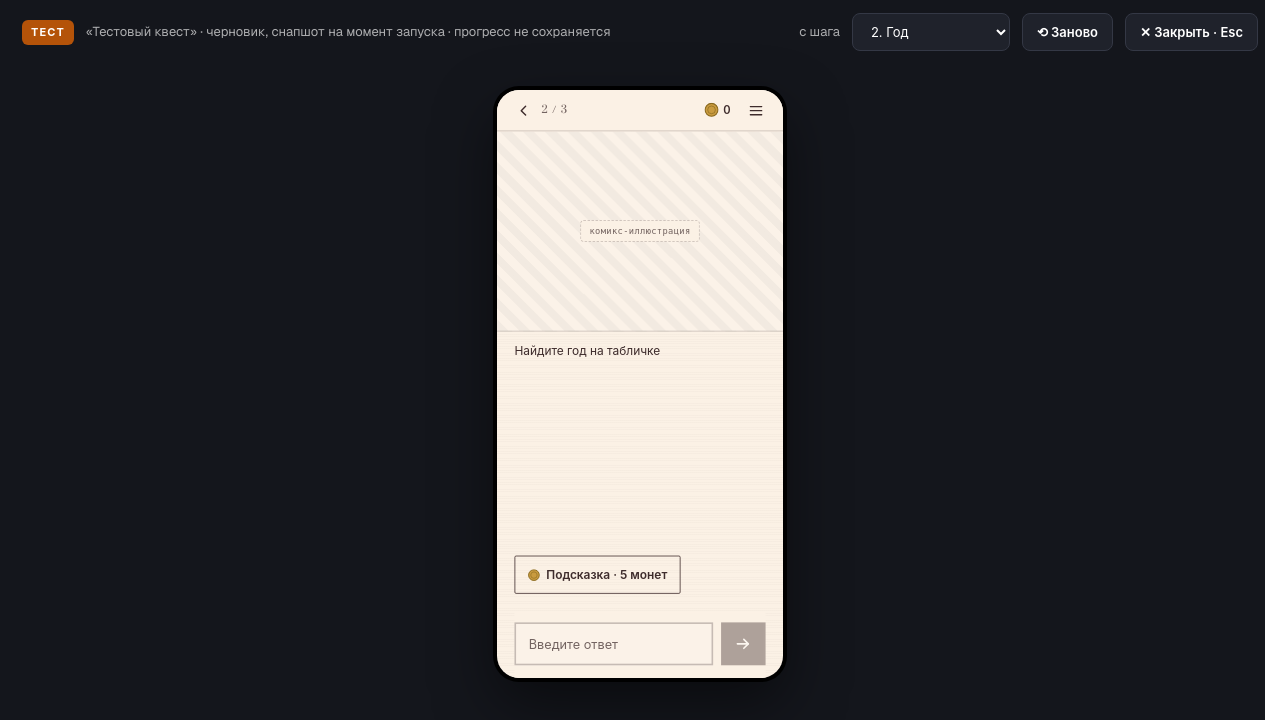
Test: конструкторский тест-игрок: пропуск задания › цена пропуска — из настроек черновика; пропуск ведёт дальше
The width and height of the screenshot is (1280, 720).
Type "1700" into the field with placeholder "Введите ответ" at (614, 644), box [514,622,713,665]
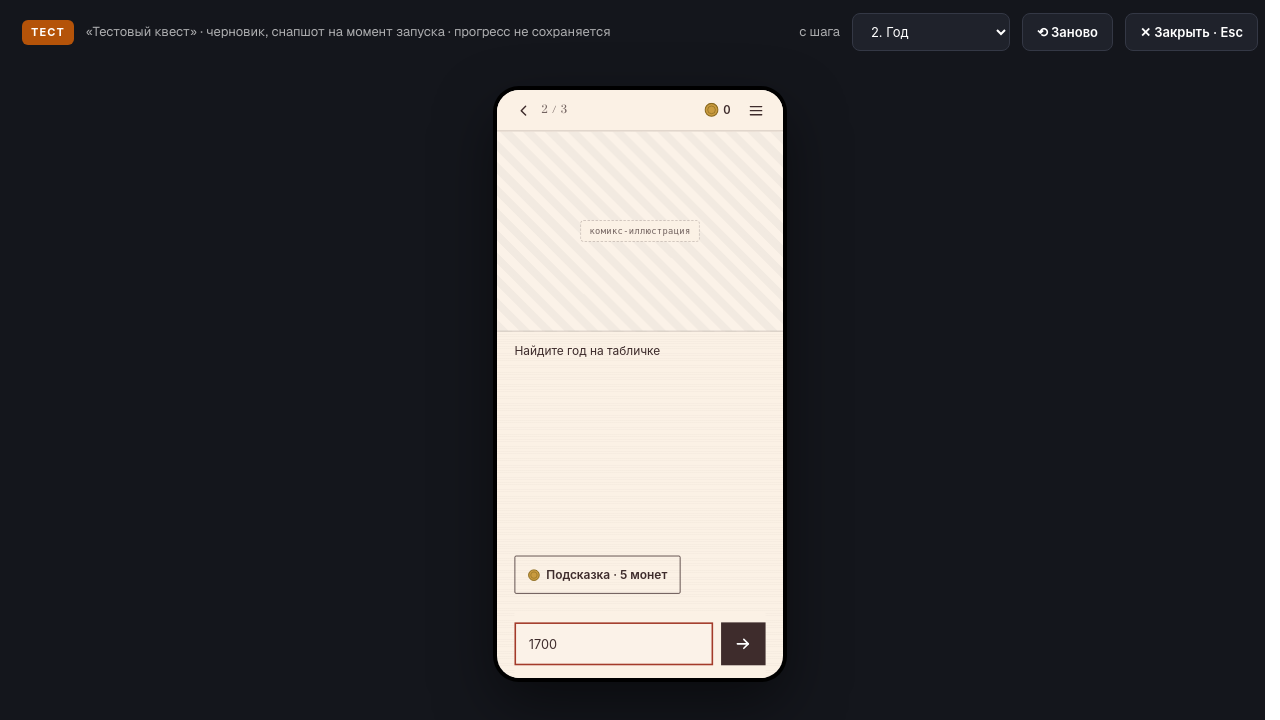
Click the button named "Ответить" at (743, 644), box [721,622,766,665]
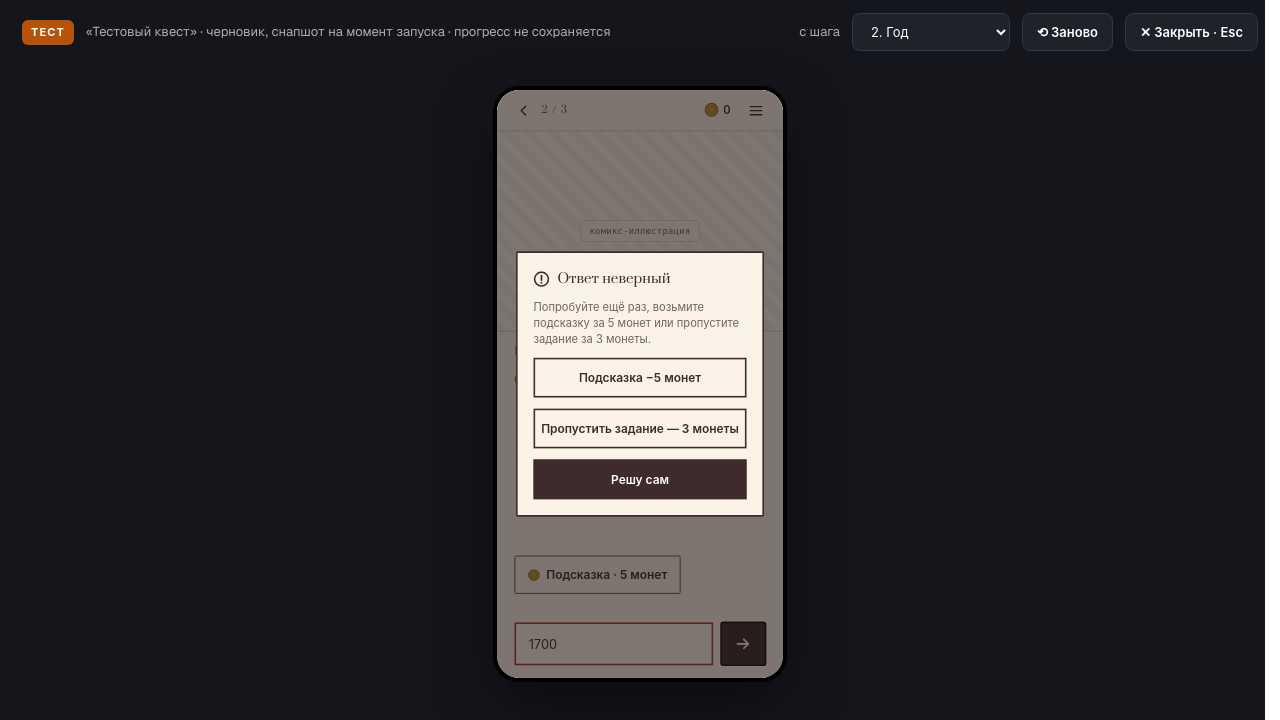
expect the text "Попробуйте ещё раз, возьмите подсказку за 5 монет или пропустите задание за 3 монеты." is shown: met, box [534,300,739,345]
Click the button "Пропустить задание — 3 монеты" at (640, 429), box [534,409,746,449]
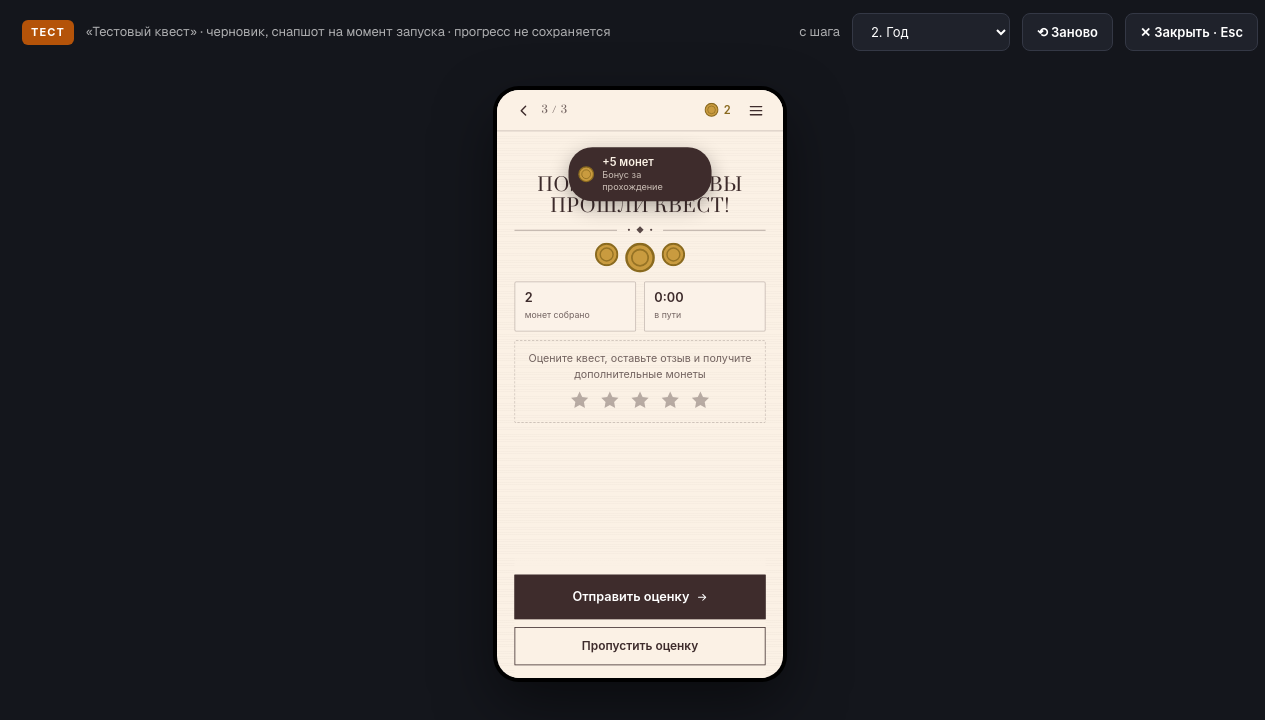
expect the heading "Поздравляем, вы прошли квест!" is shown: met, box [537,172,743,219]
